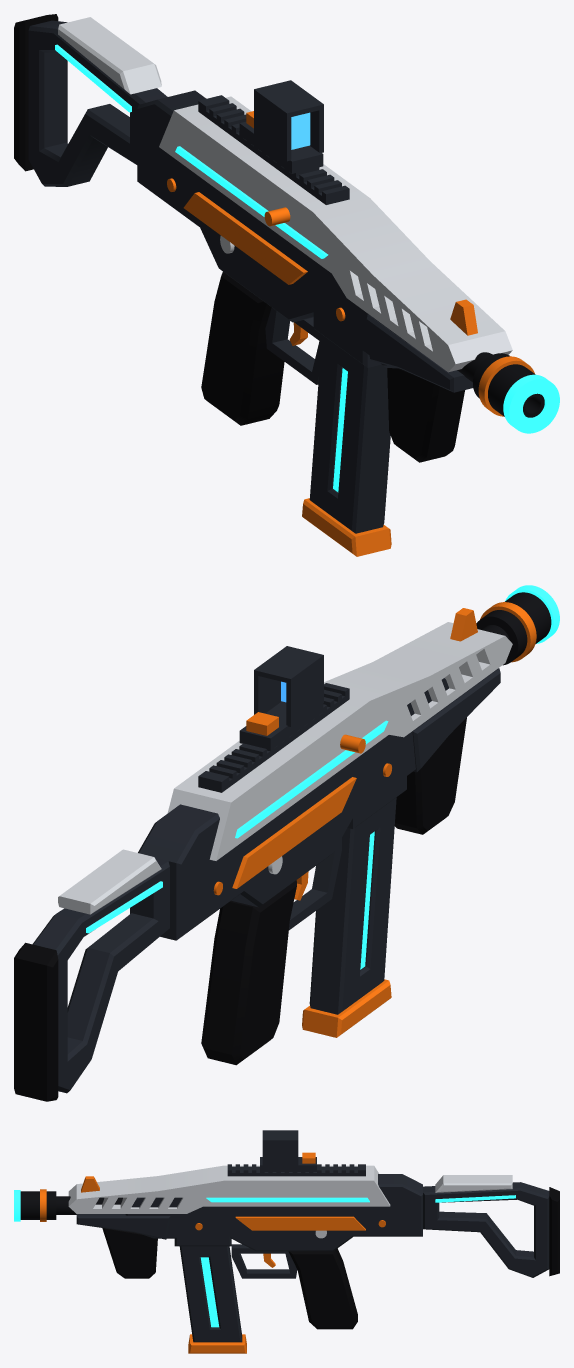
File: SMG_VX9_Wasp.glb
3 views of the same model, one above another, from view 1: azimuth 30°, elevation 25°; view 2: azimuth 150°, elevation 25°; view 3: azimuth 270°, elevation 25° (orthographic). The views are drawn at different scales.
Visible parts, largest first — view 1: upper_shroud, receiver, magazine, stock, grip, foregrip, cheek, side_stripe_R, top_rail, handguard, butt_pad, muzzle_tip (+11 smaller); view 2: upper_shroud, receiver, grip, magazine, stock, butt_pad, foregrip, cheek, side_stripe_R, top_rail, handguard, muzzle (+11 smaller); view 3: upper_shroud, receiver, stock, magazine, grip, foregrip, side_stripe_L, handguard, top_rail, cheek, trigger_guard, glow_line_L (+9 smaller).
Part boxes in pixels (x1=…): upper_shroud: x1=159, y1=96, x2=512, y2=372; receiver: x1=137, y1=90, x2=407, y2=368; magazine: x1=309, y1=335, x2=390, y2=533; stock: x1=28, y1=20, x2=167, y2=186; grip: x1=201, y1=272, x2=284, y2=425; foregrip: x1=387, y1=368, x2=464, y2=462; cheek: x1=58, y1=17, x2=161, y2=94; side_stripe_R: x1=183, y1=192, x2=307, y2=284; top_rail: x1=198, y1=95, x2=349, y2=204; handguard: x1=366, y1=314, x2=473, y2=392; butt_pad: x1=14, y1=14, x2=58, y2=171; muzzle_tip: x1=503, y1=374, x2=559, y2=433; upper_shroud: x1=167, y1=622, x2=512, y2=860; receiver: x1=138, y1=678, x2=451, y2=940; grip: x1=201, y1=880, x2=296, y2=1065; magazine: x1=309, y1=797, x2=396, y2=1014; stock: x1=32, y1=858, x2=169, y2=1093; butt_pad: x1=14, y1=942, x2=58, y2=1101; foregrip: x1=394, y1=717, x2=466, y2=834; cheek: x1=58, y1=849, x2=161, y2=914; side_stripe_R: x1=232, y1=777, x2=356, y2=888; top_rail: x1=198, y1=683, x2=349, y2=792; handguard: x1=412, y1=668, x2=500, y2=772; muzzle: x1=476, y1=592, x2=551, y2=665; upper_shroud: x1=68, y1=1165, x2=390, y2=1213; receiver: x1=125, y1=1174, x2=422, y2=1251; stock: x1=423, y1=1182, x2=549, y2=1277; magazine: x1=179, y1=1246, x2=242, y2=1342; grip: x1=288, y1=1248, x2=357, y2=1329; foregrip: x1=102, y1=1228, x2=157, y2=1278; side_stripe_L: x1=235, y1=1216, x2=365, y2=1230; handguard: x1=76, y1=1214, x2=170, y2=1239; top_rail: x1=227, y1=1164, x2=365, y2=1176; cheek: x1=435, y1=1175, x2=512, y2=1192; trigger_guard: x1=231, y1=1244, x2=297, y2=1278; glow_line_L: x1=206, y1=1197, x2=369, y2=1202.
Size of the model in its own units: 0.06 by 0.2893 by 0.67.
